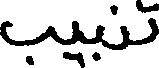ب: (0, 19, 51, 65), (92, 23, 102, 61)
ت: (134, 0, 157, 46)
ن: (109, 3, 128, 50)
ي: (63, 19, 83, 66)
